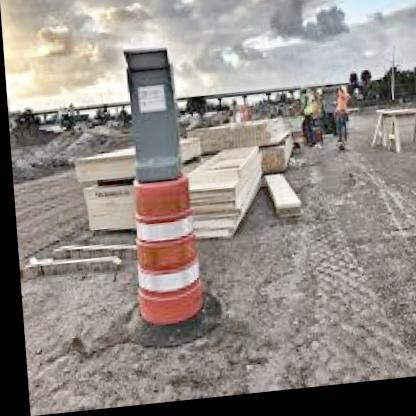obstacle: (117, 176, 206, 334)
